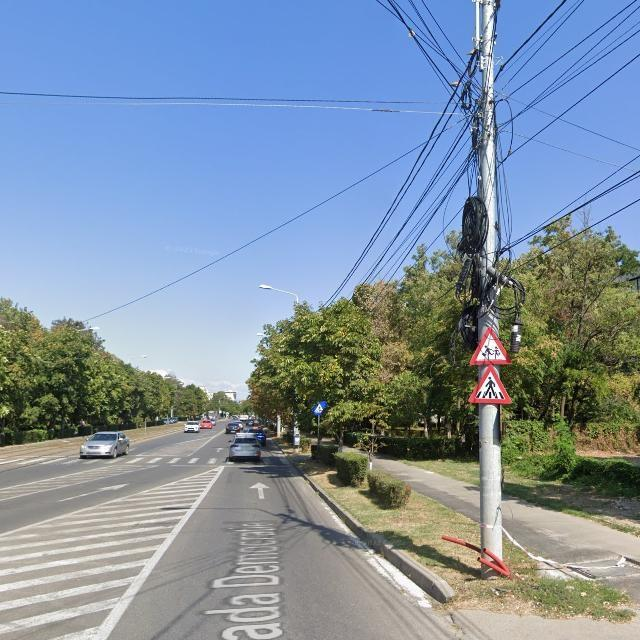info_crosswalk: (313, 401, 327, 415)
warn_crosswalk: (467, 365, 514, 404)
